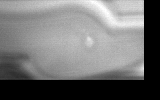cell: (81, 34, 99, 51)
